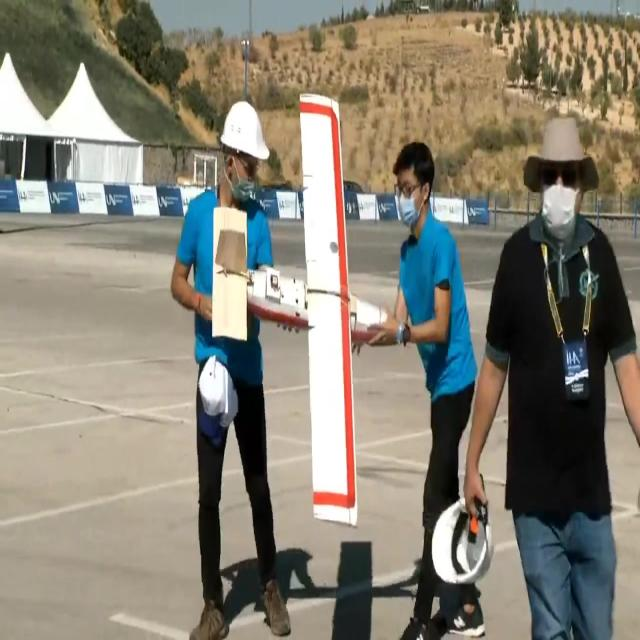iha: (213, 89, 401, 531)
